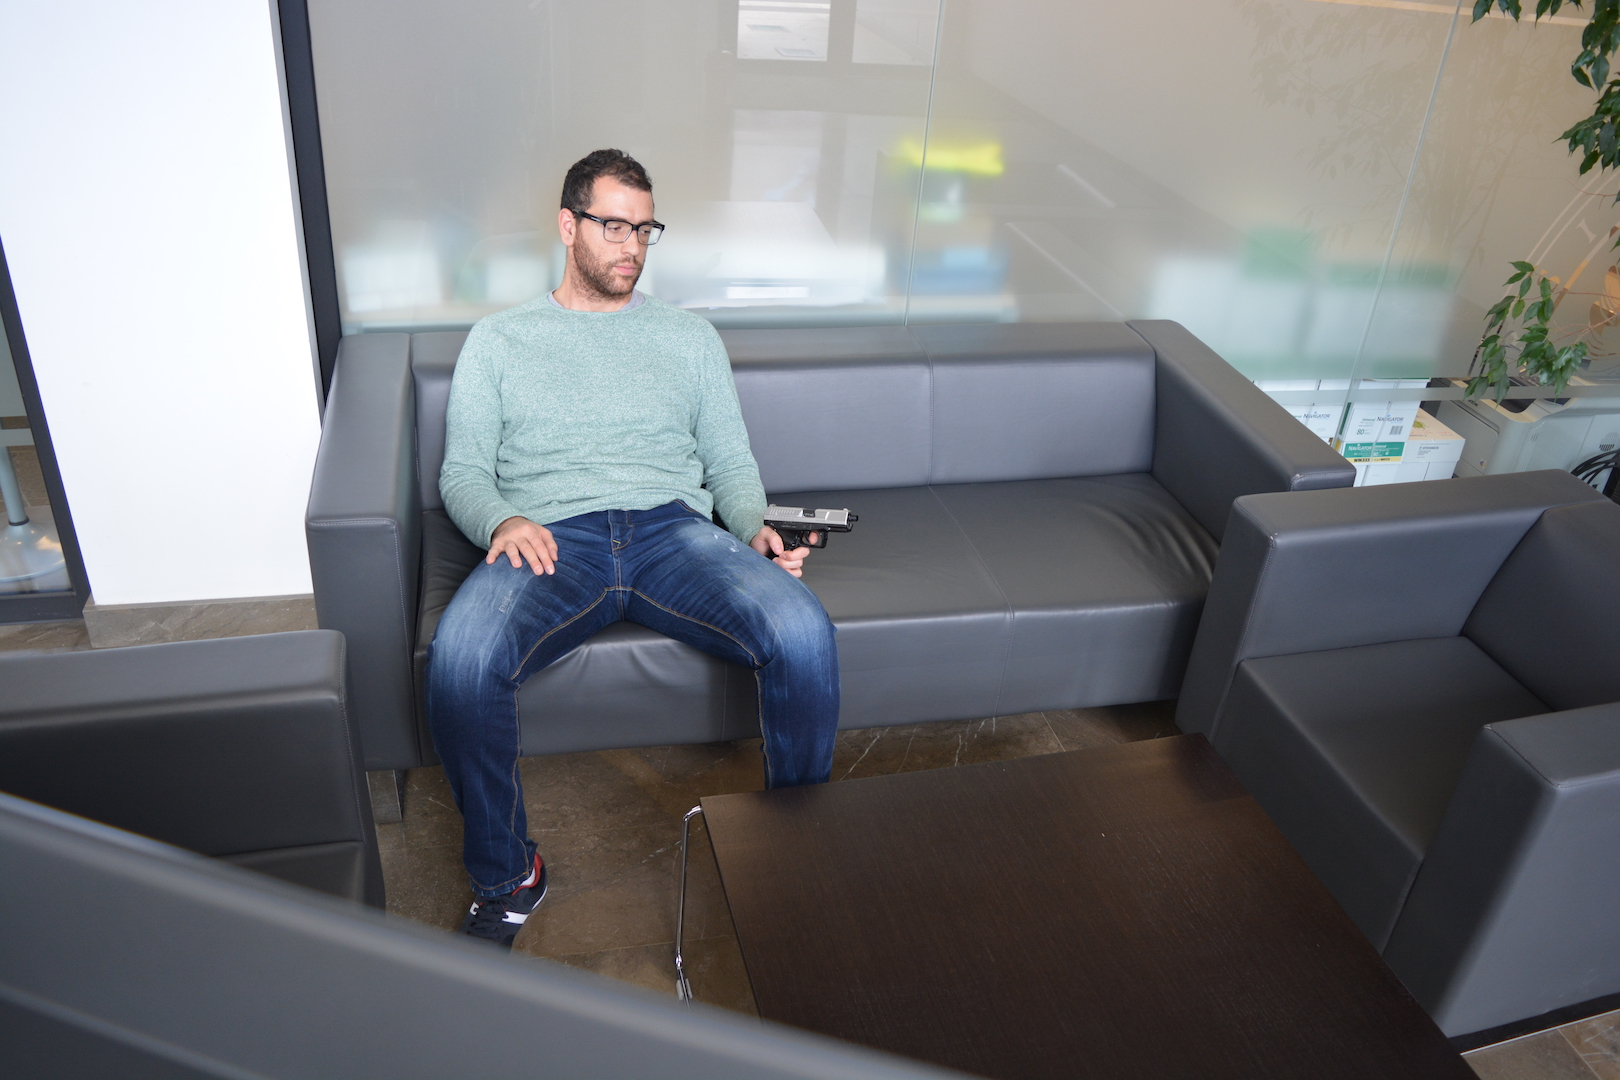pistol: (762, 503, 859, 560)
